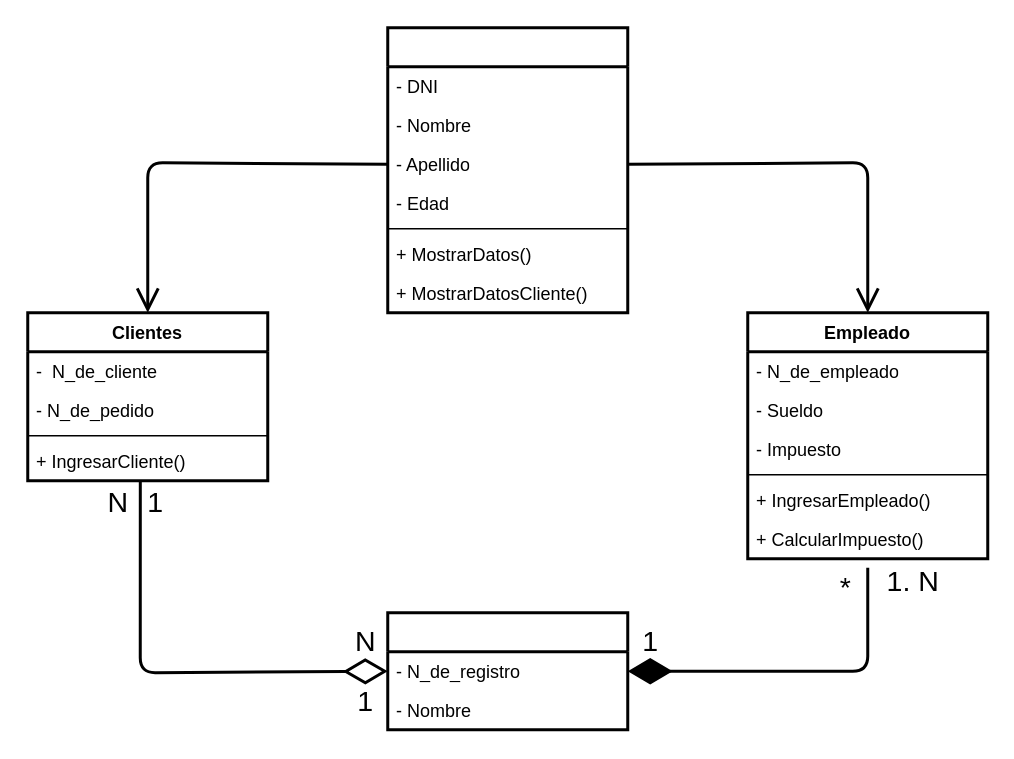
The diagram is 1014 pixels wide and 759 high, and some of its shapes have lost their labels. The shapes that lost their labels are listed below. From the top down, each one's box as (x1, y1, x2, y2) in pixels, then its label:
(386, 26, 628, 314): Persona
(386, 610, 628, 730): Empresa
